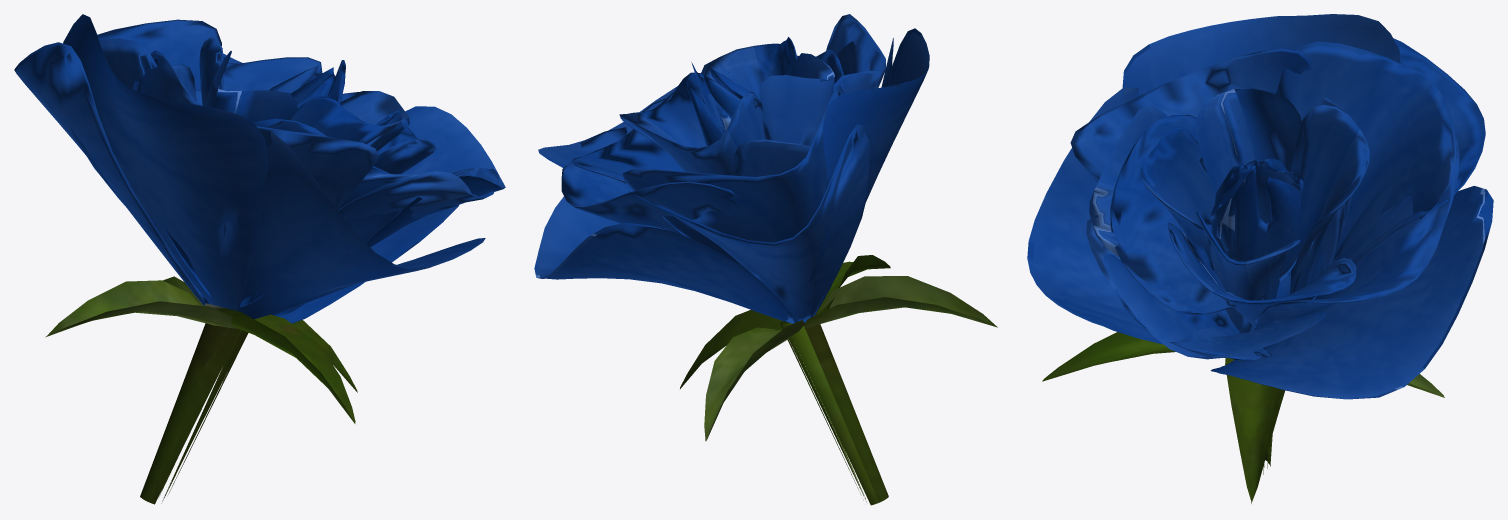
3 renders of one model, left to right at view 1: azimuth 30°, elevation 25°; view 2: azimuth 150°, elevation 25°; view 3: azimuth 270°, elevation 25°, orthographic.
Parts seen in each view (by area): view 1: f802fa9c; view 2: f802fa9c; view 3: f802fa9c.
Part boxes in pixels (left/top/right/bottom): f802fa9c: left=14, top=14, right=505, bottom=504; f802fa9c: left=534, top=14, right=997, bottom=505; f802fa9c: left=1027, top=14, right=1493, bottom=503.
Bounding box in the file's own units: 0.0925 × 0.0907 × 0.0848.
2 materials, 2 textured.
